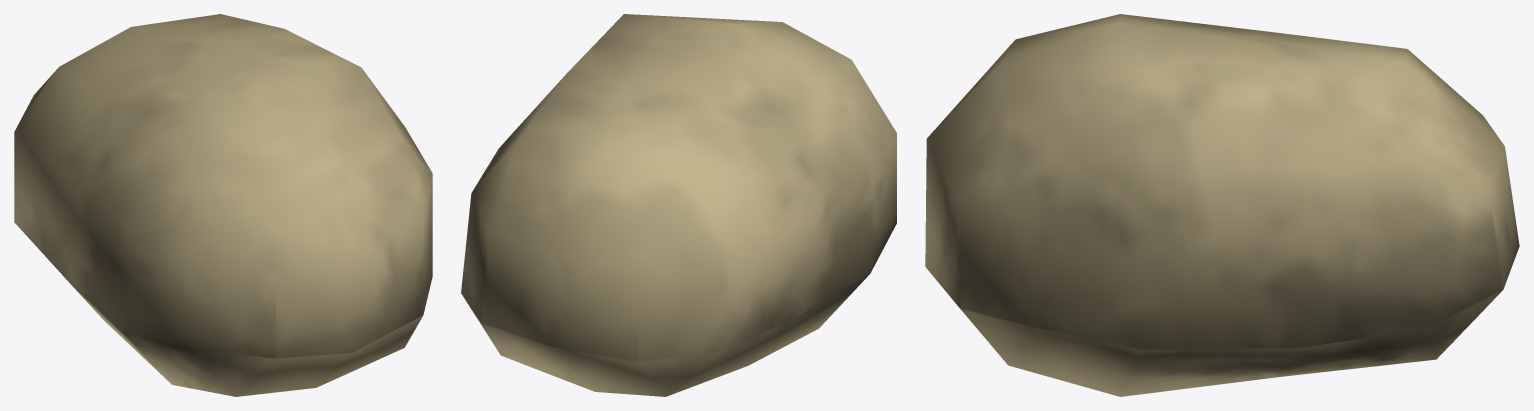
The model's file is stoneNew.fbx.
3 views of the same model, side by side, from view 1: azimuth 30°, elevation 25°; view 2: azimuth 150°, elevation 25°; view 3: azimuth 270°, elevation 25° (orthographic). The views are drawn at different scales.
Visible parts, largest first — view 1: stone; view 2: stone; view 3: stone.
Part boxes in pixels (left/top/right/bottom): stone: left=14, top=14, right=432, bottom=396; stone: left=461, top=14, right=896, bottom=396; stone: left=925, top=14, right=1519, bottom=396.
Size of the model in its own units: 0.5755 by 0.5354 by 0.8552.
